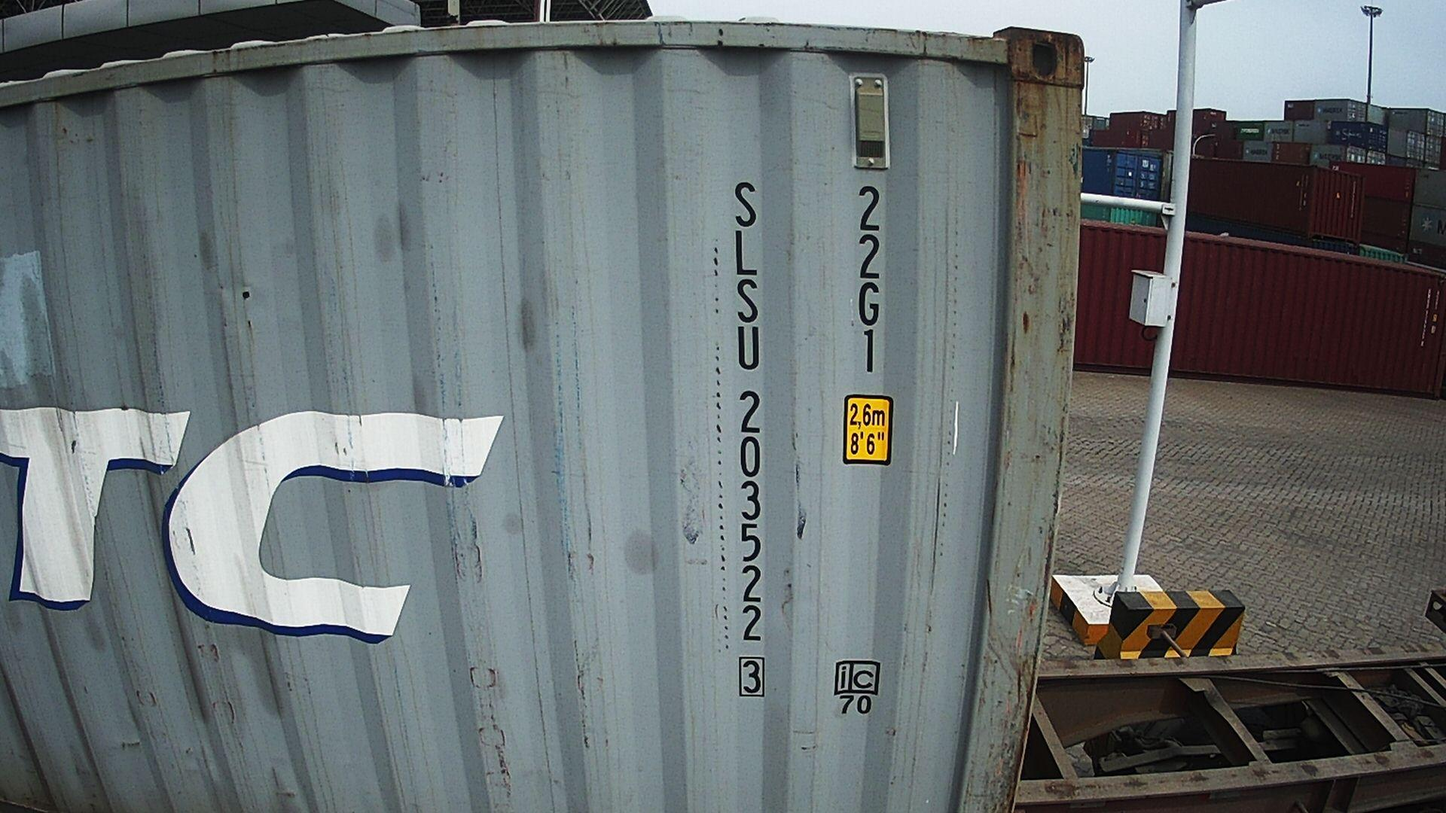container-numbers: (722, 173, 777, 703), (850, 181, 889, 378)
